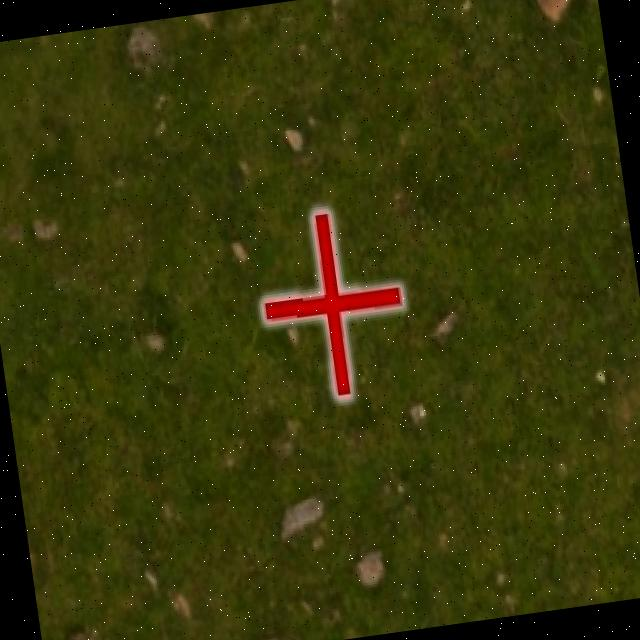x_marker: (251, 202, 414, 406)
